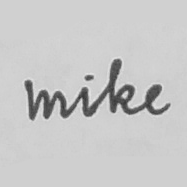e: (142, 82, 172, 116)
i: (76, 70, 98, 120)
k: (105, 55, 137, 117)
m: (26, 85, 68, 122)
